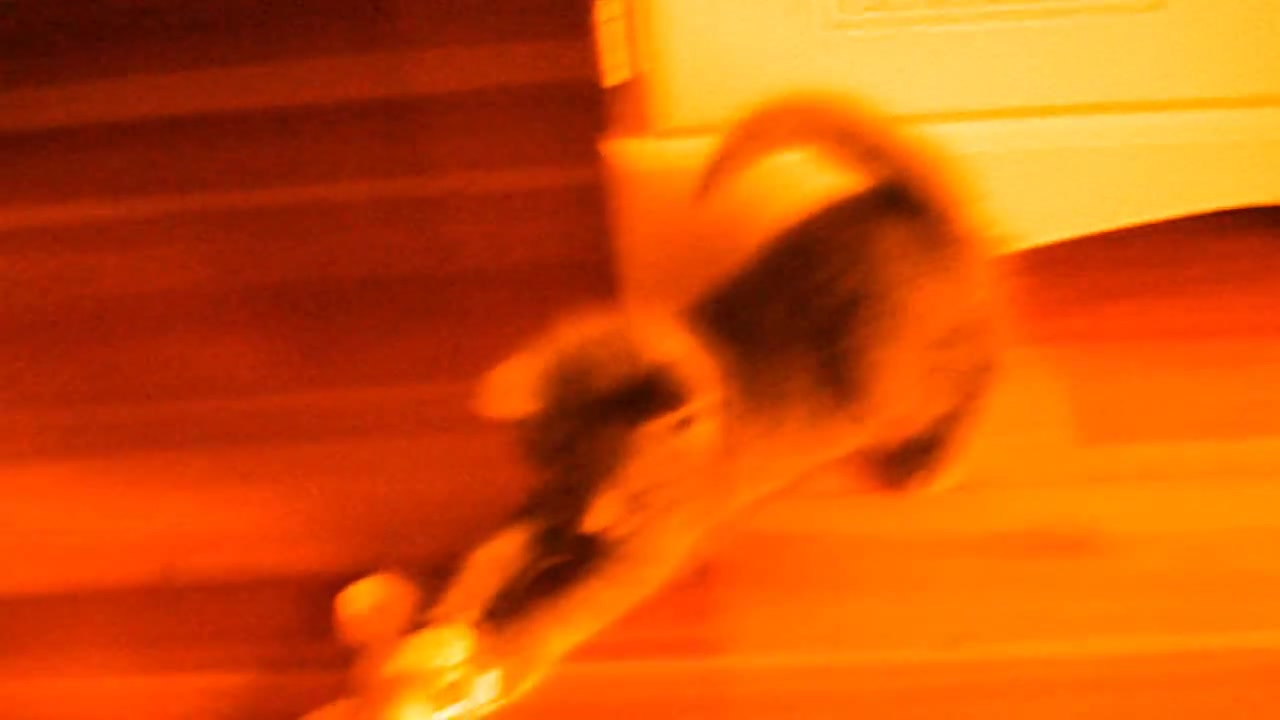cat: (406, 96, 1006, 720)
